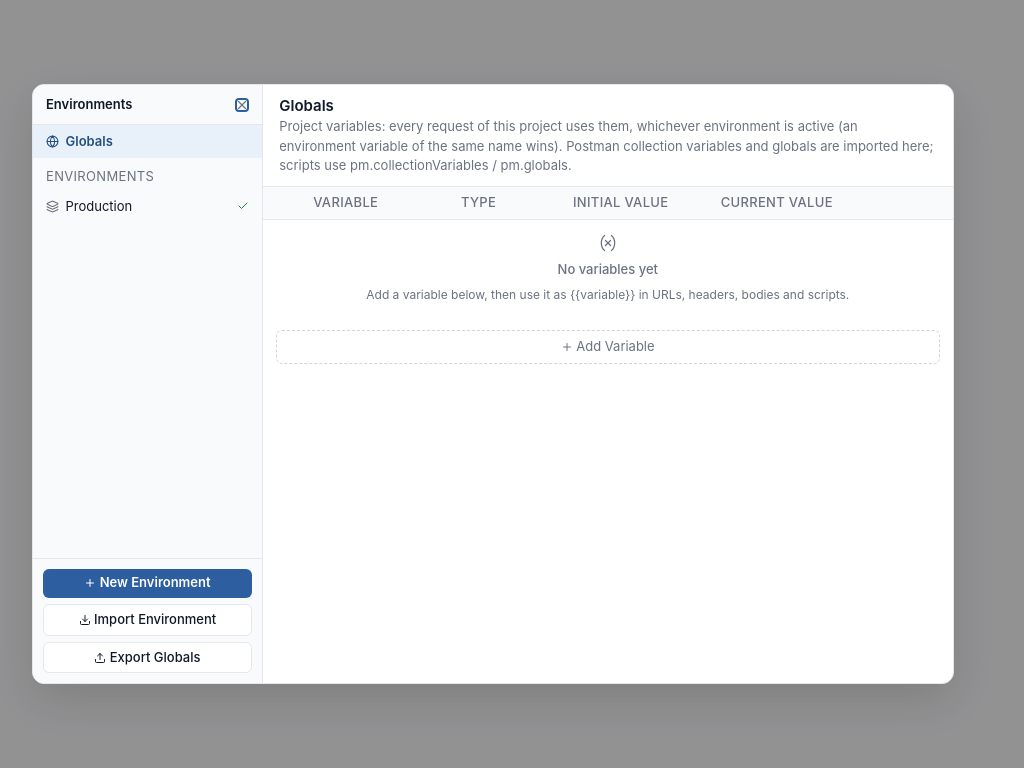
Test case: EnvironmentModal: secret row › revealed values use the same neutral colour
Click the button "Production" at coordinates (148, 206), box [33,190,262,222]
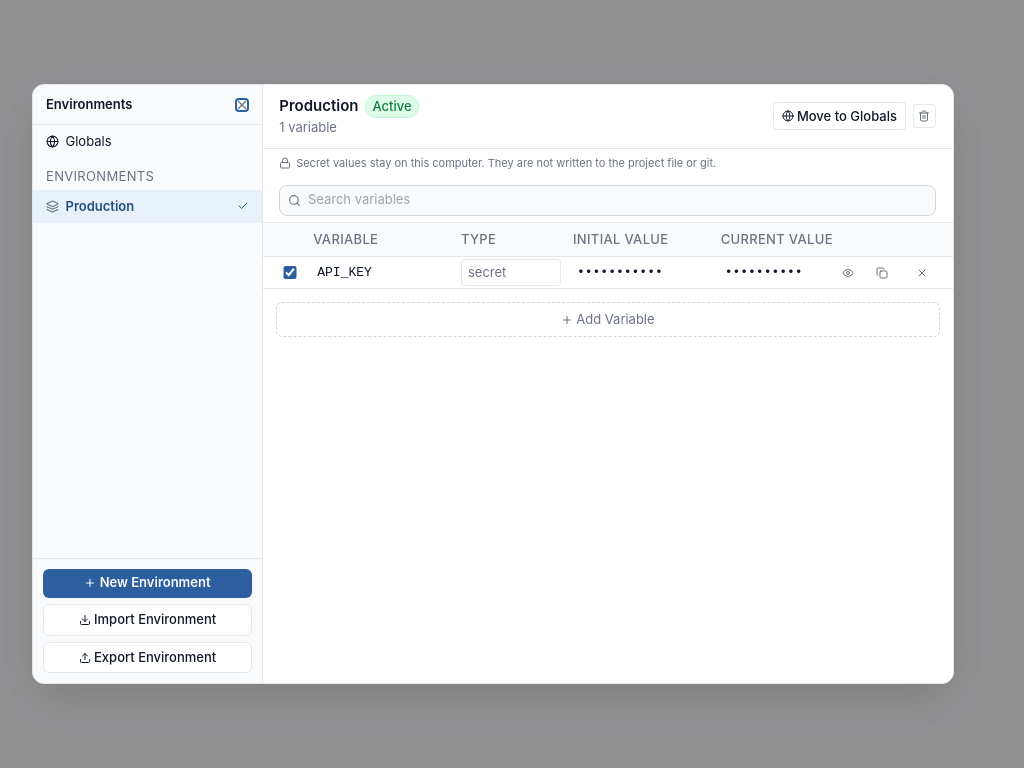
Click the button named "show value" at coordinates (848, 272), box [840,264,856,280]
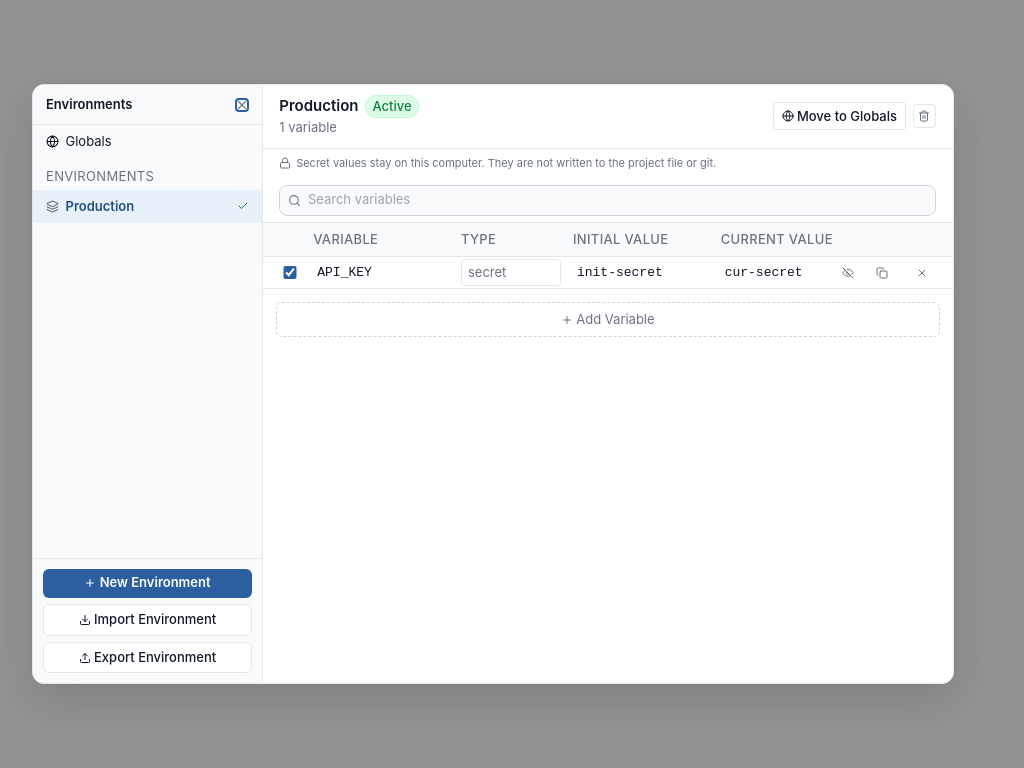
Now the field with test id "env-var-current" shows its text, box [721,257,837,288]
